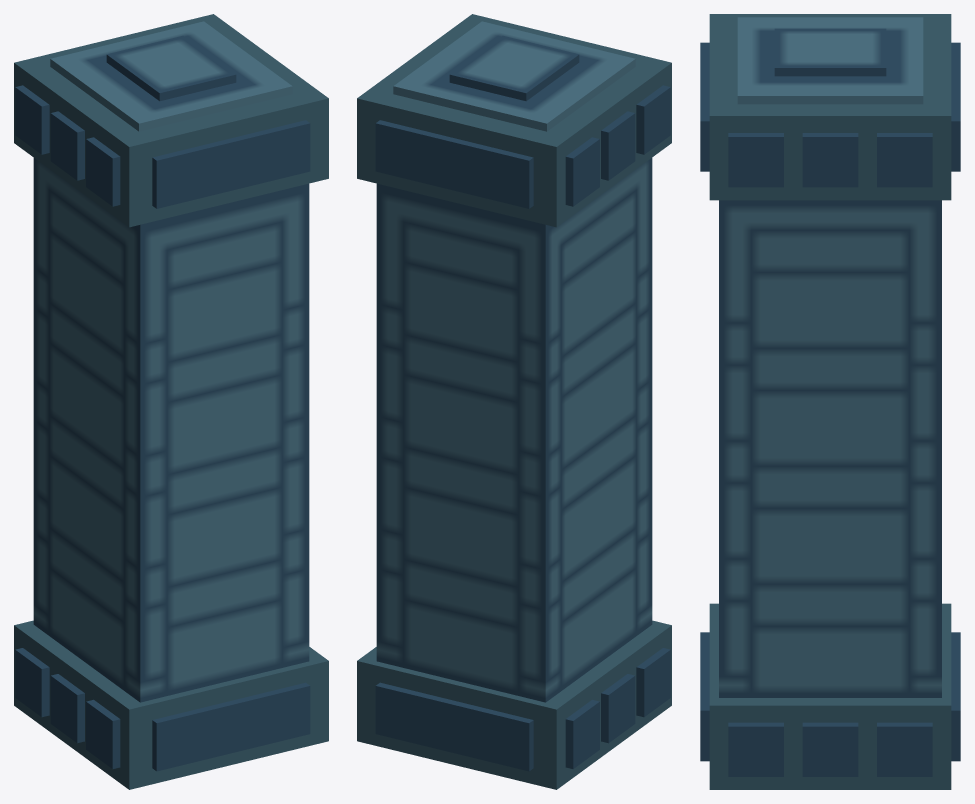
The model's file is pillar_tall.fbx.
The picture shows the model from 3 angles, left to right: view 1: azimuth 30°, elevation 25°; view 2: azimuth 150°, elevation 25°; view 3: azimuth 270°, elevation 25°; orthographic projection. The views are drawn at different scales.
Parts seen in each view (by area): view 1: pillar_tall; view 2: pillar_tall; view 3: pillar_tall.
Boxes of the visible parts, box(x1,y1,x2,y2) form: pillar_tall: box(14, 14, 328, 789); pillar_tall: box(357, 14, 671, 789); pillar_tall: box(700, 14, 960, 789).
Bounding box in the file's own units: 28 × 83 × 28.
Materials: 1 (1 with a texture image).
